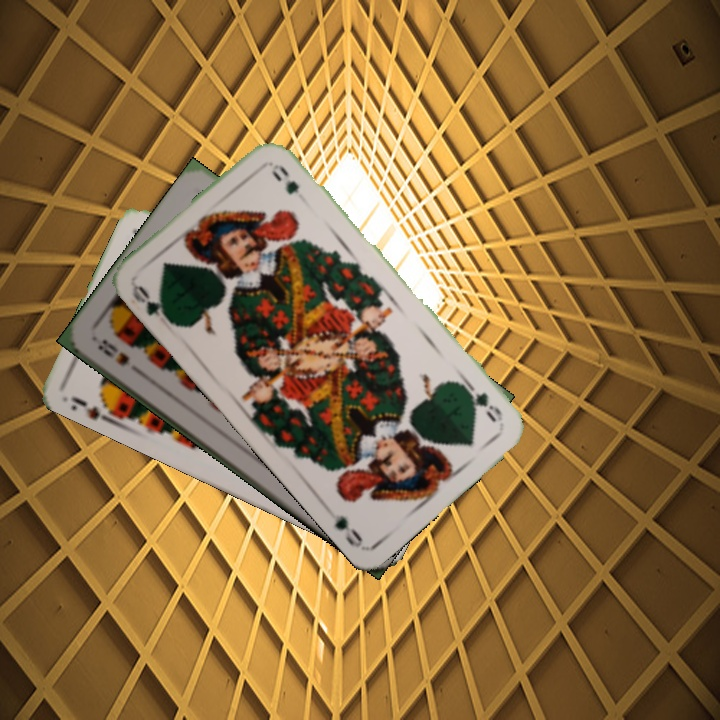GO: (128, 281, 177, 327), (459, 376, 505, 425)
S8: (94, 335, 132, 369)
S9: (66, 392, 119, 427)
